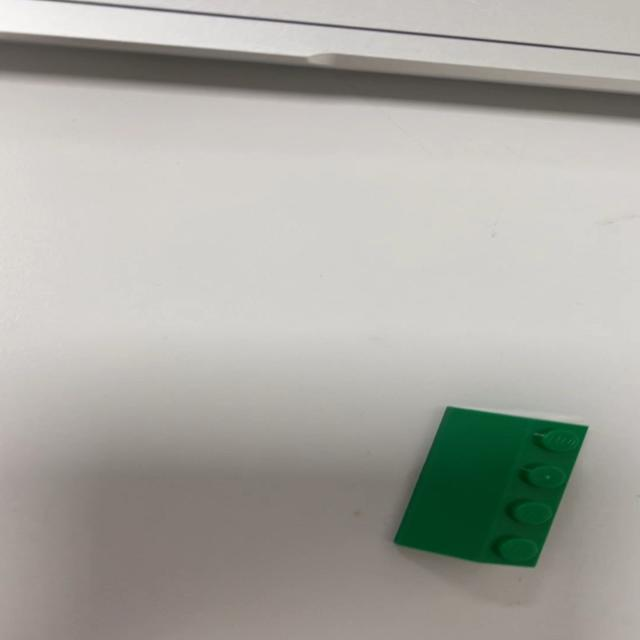P4x2x1: (391, 405, 590, 568)
